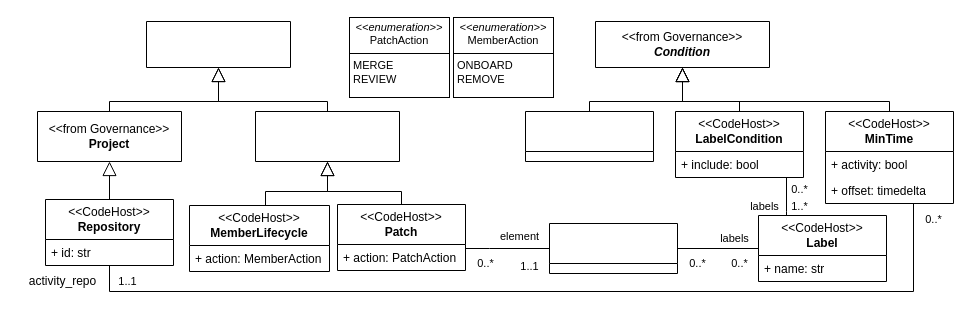
Some shapes in this 971 by 314 pixel diagram are drawn without their labels. Here are the shapes that lost their labels. From the top down, the centre of each, then its label:
At [218,44]: "<<from Governance>> Scope".
At [327,136]: "<<from Governance>> Task".
At [589,136]: "<<CodeHost>> CiCdCheck".
At [613,248]: "<<CodeHost>> PullRequest".
